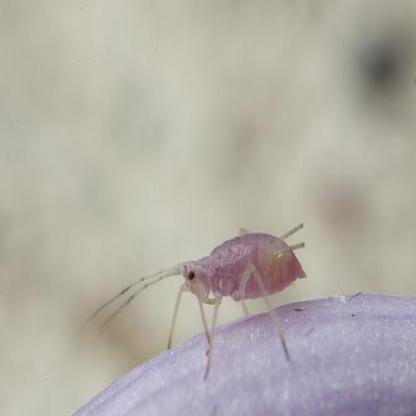aphid: (85, 217, 318, 382)
